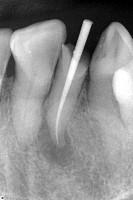Furcation Involvement: (37, 114, 76, 168)
